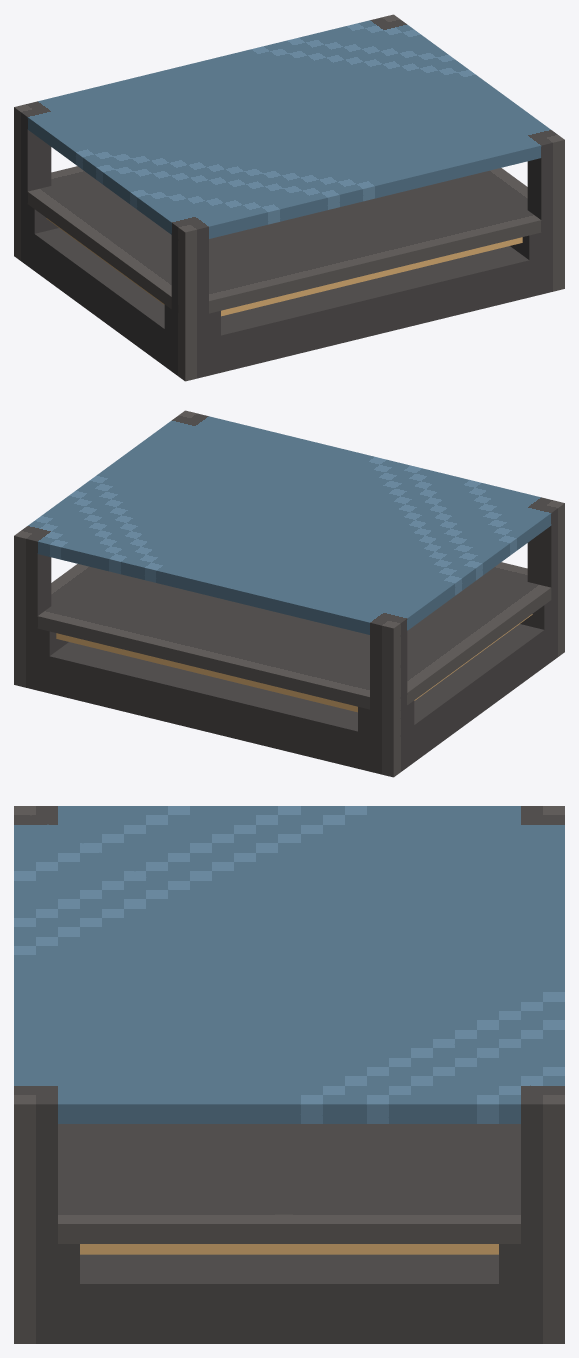
The model's file is table.glb.
3 renders of one model, top to bottom at view 1: azimuth 30°, elevation 25°; view 2: azimuth 150°, elevation 25°; view 3: azimuth 270°, elevation 25°, orthographic. The views are drawn at different scales.
Parts seen in each view (by area): view 1: Table-Local; view 2: Table-Local; view 3: Table-Local.
Part boxes in pixels (<box>): Table-Local: <box>14,14,564,381</box>; Table-Local: <box>14,410,564,777</box>; Table-Local: <box>14,806,564,1343</box>.
Size of what is drawn, in the model's own units: 1.6 by 0.6 by 1.25.
Materials: 1 (1 with a texture image).
